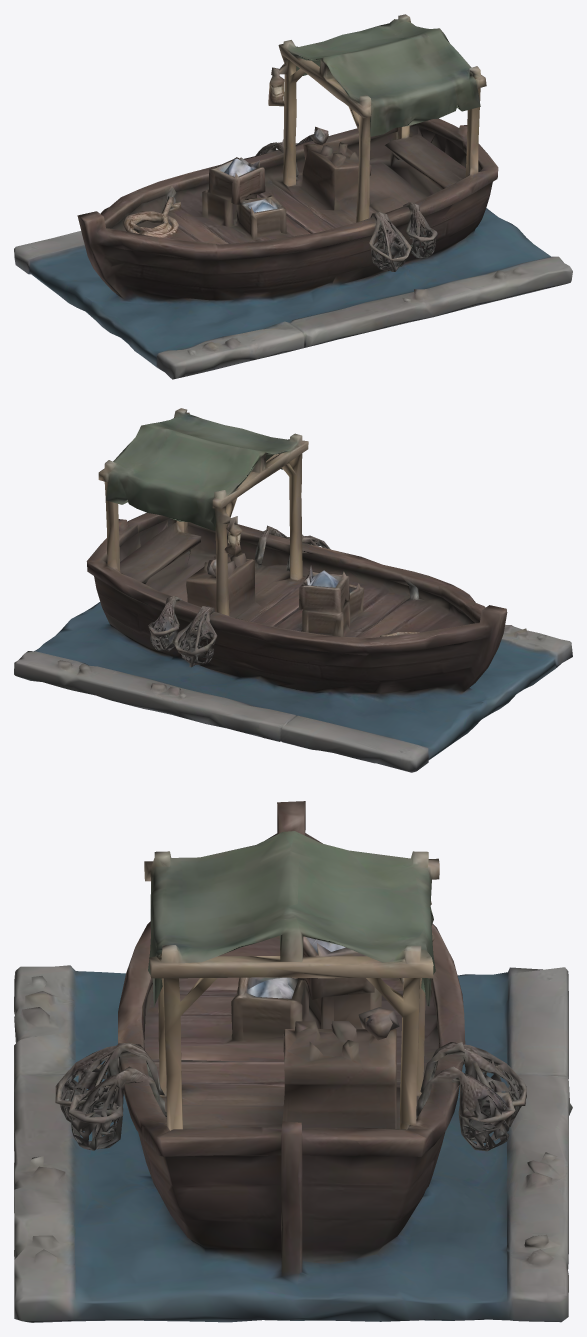
File: lagos_fishing_boat.glb
3 renders of one model, top to bottom at view 1: azimuth 30°, elevation 25°; view 2: azimuth 150°, elevation 25°; view 3: azimuth 270°, elevation 25°, orthographic. The views are drawn at different scales.
Parts seen in each view (by area): view 1: tripo_node_8e4e0b15-d516-442c-b848-9167d3bb2563; view 2: tripo_node_8e4e0b15-d516-442c-b848-9167d3bb2563; view 3: tripo_node_8e4e0b15-d516-442c-b848-9167d3bb2563.
Boxes of the visible parts, <box> form: tripo_node_8e4e0b15-d516-442c-b848-9167d3bb2563: <box>14,14,572,379</box>; tripo_node_8e4e0b15-d516-442c-b848-9167d3bb2563: <box>14,408,572,772</box>; tripo_node_8e4e0b15-d516-442c-b848-9167d3bb2563: <box>14,801,572,1322</box>.
Bounding box in the file's own units: 1 × 0.4854 × 0.6887.
1 material, 1 textured.
